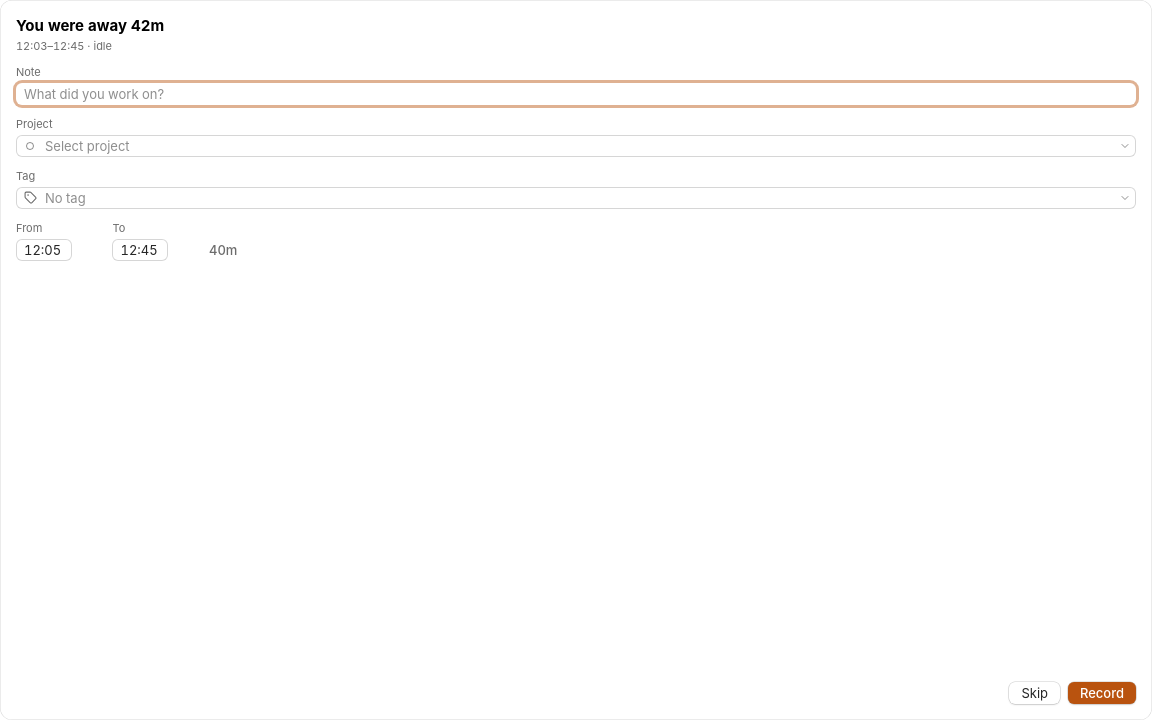
Test case: AwayPrompt › recording › asks for a project and answers nothing while none is known
expect the dropdown labelled "project" is shown: met, box [45,135,1106,157]
Click the button "Record" at (1102, 693), box [1068,682,1136,704]
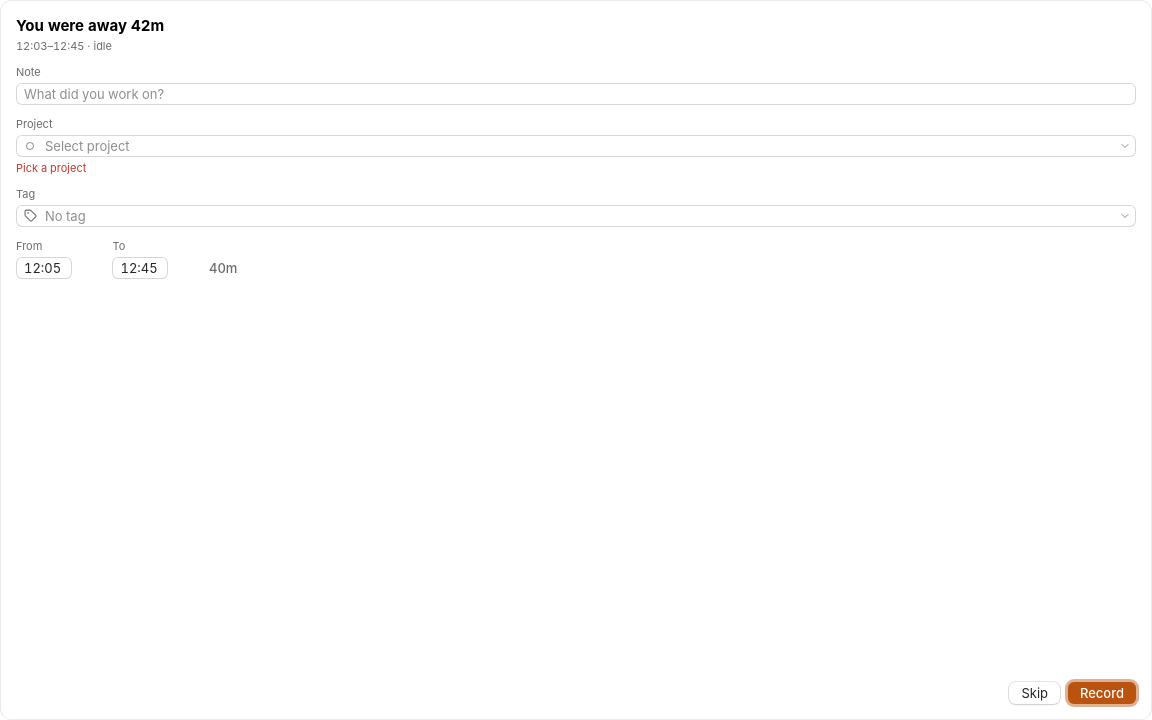
expect the message reads "Pick a project": met, box [16,161,86,175]
